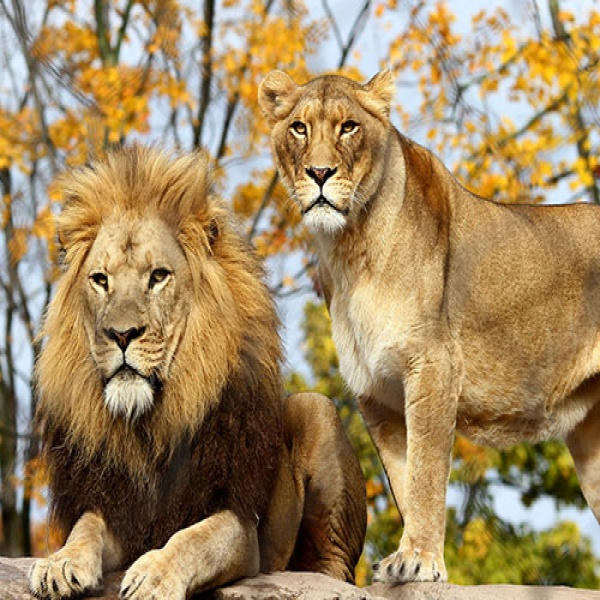Lion: (255, 64, 600, 587), (27, 140, 371, 600)
